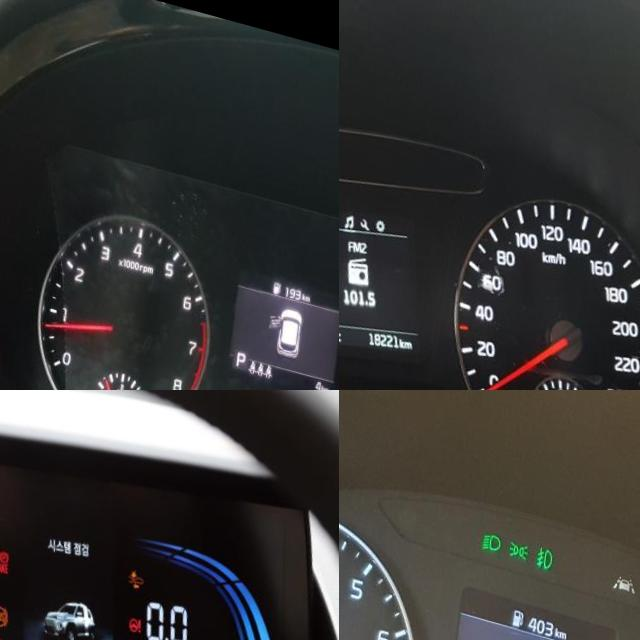FrontFogLight: (542, 527, 561, 553)
LaneCenteringOff: (618, 551, 640, 572)
Low beam: (486, 515, 509, 539)
SideLamp: (514, 523, 535, 545)
